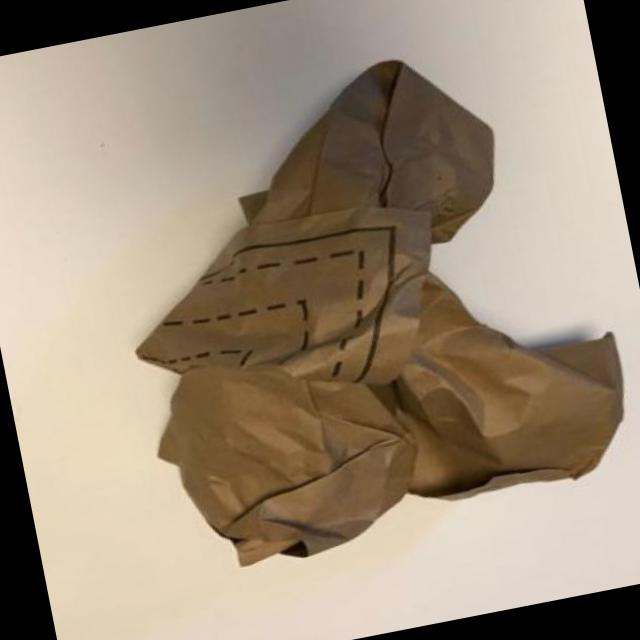cardboard paper: (136, 64, 620, 567)
